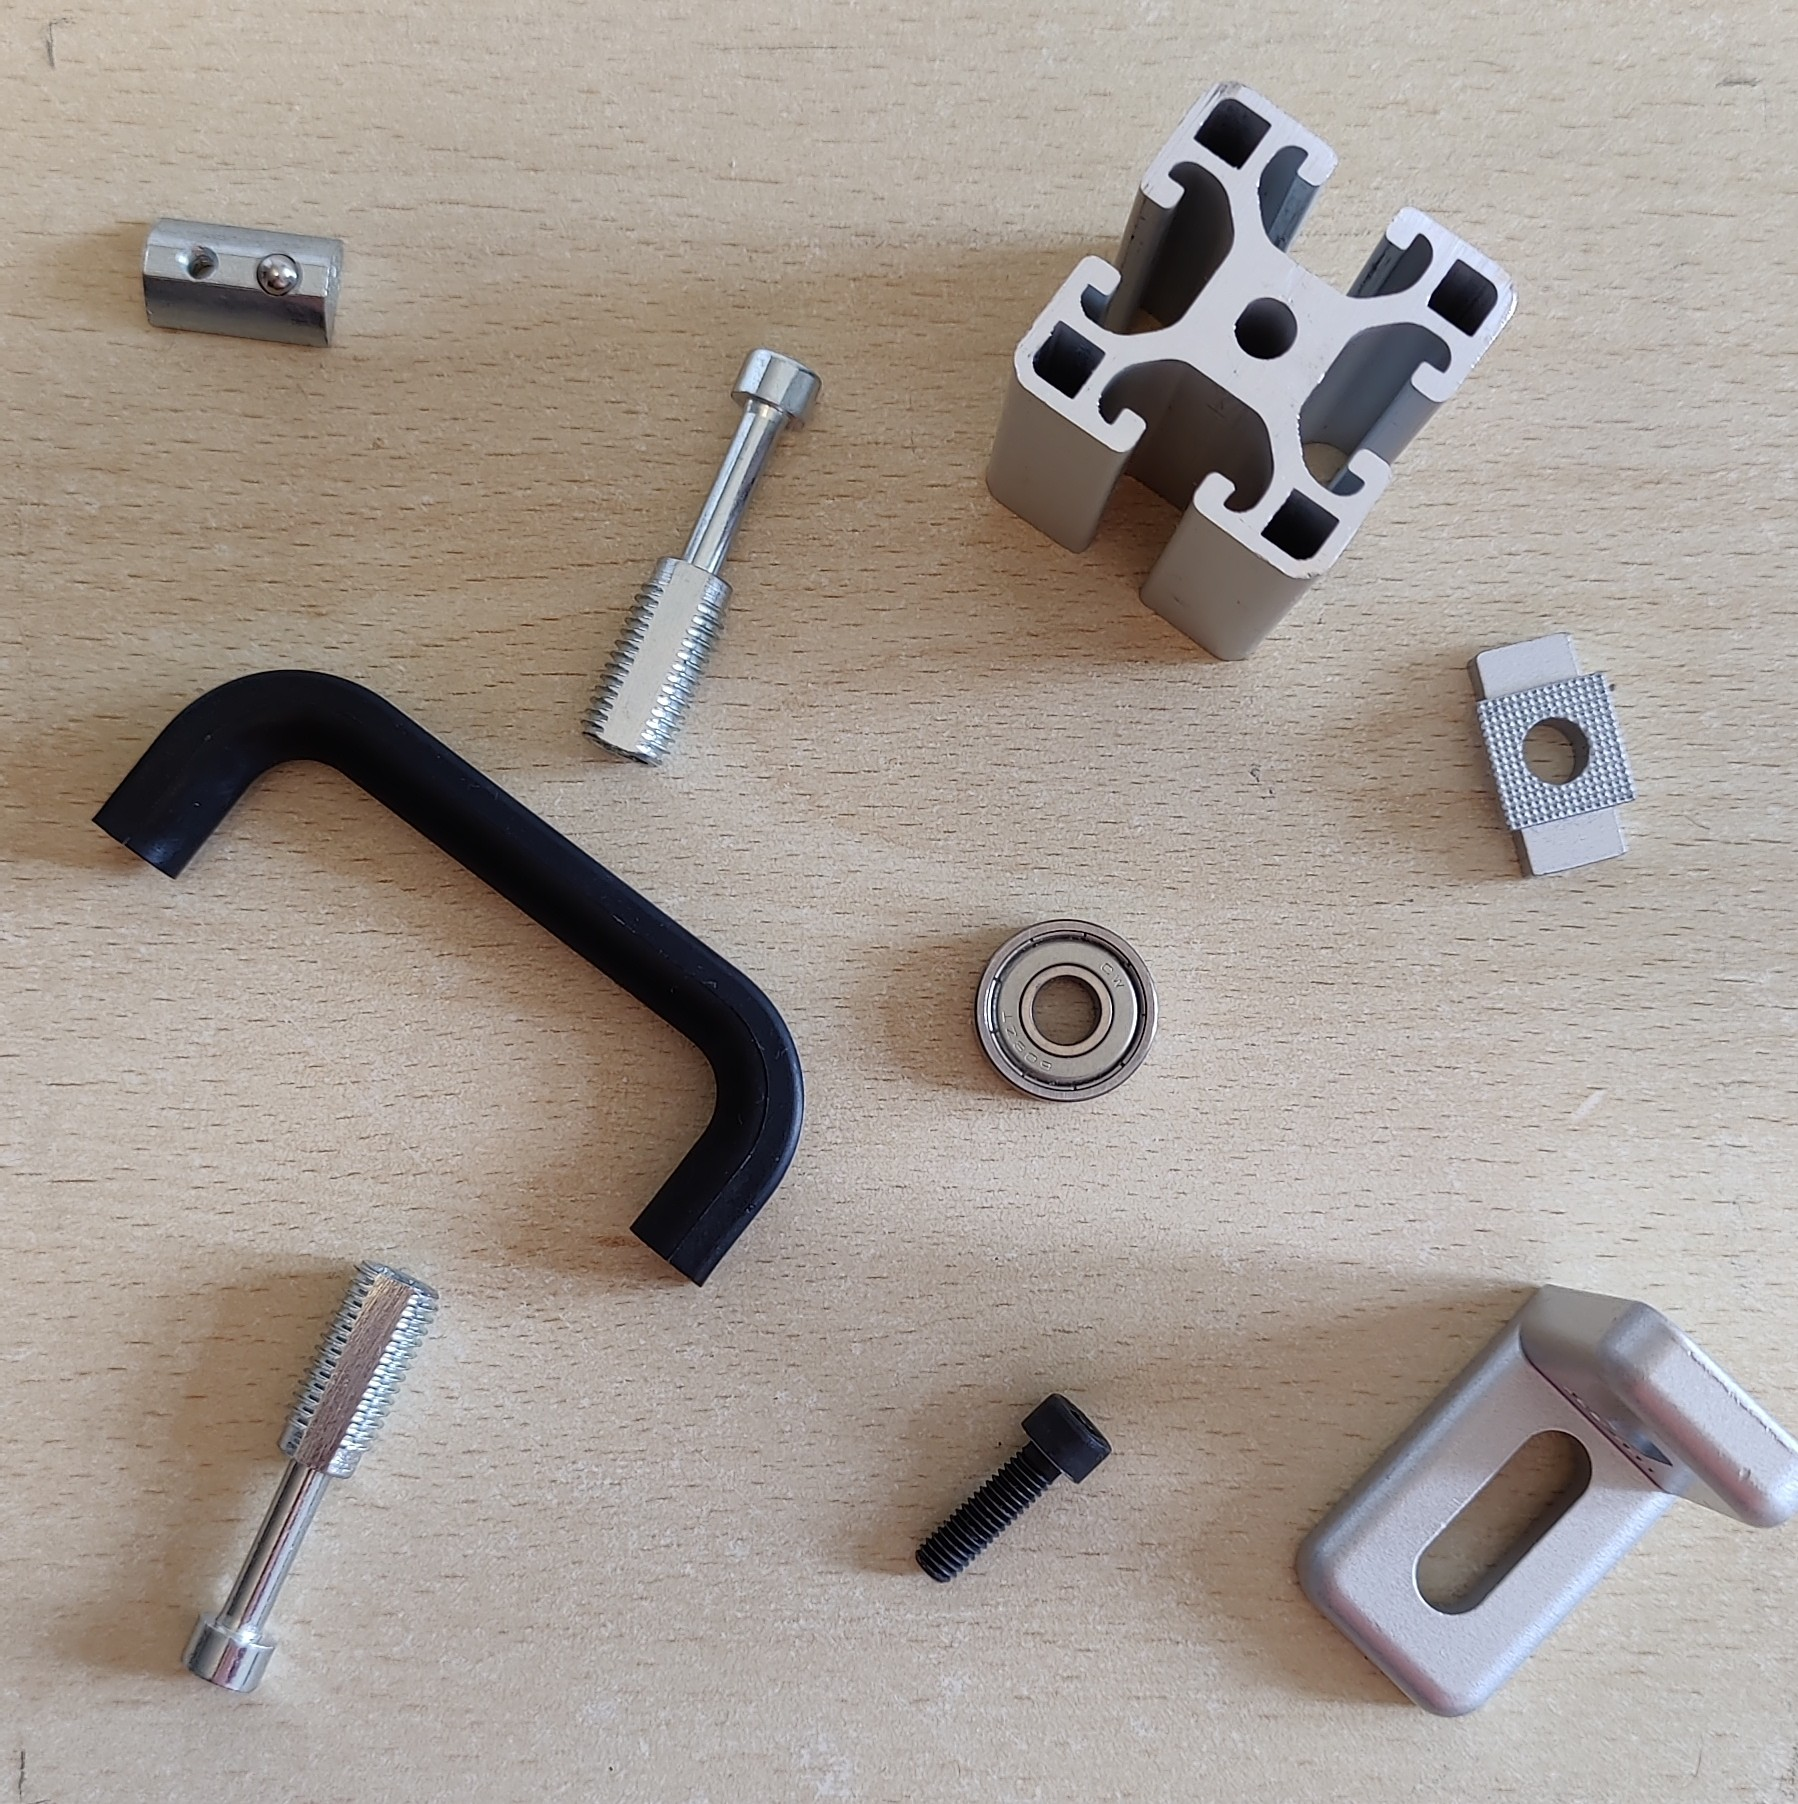Aluminium Extension: (981, 79, 1521, 663)
Ball Bearing: (970, 918, 1158, 1104)
Multiwinkel: (1291, 1281, 1798, 1722)
Pull Handle: (89, 667, 807, 1286)
Shoulder Socket Head Cap Screw: (181, 1253, 445, 1697), (576, 344, 823, 769)
Socket Head Cap Screw: (914, 1386, 1115, 1585)
T Nut Square: (1465, 629, 1640, 881)
T Spring Nut: (137, 216, 347, 352)
